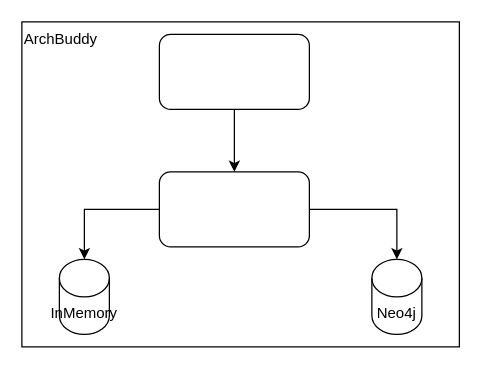
This 481x369 diagram has some shape labels left out. Each missing label, with the centre of its shape:
Backend: [233,209]
Frontend: [233,71]
